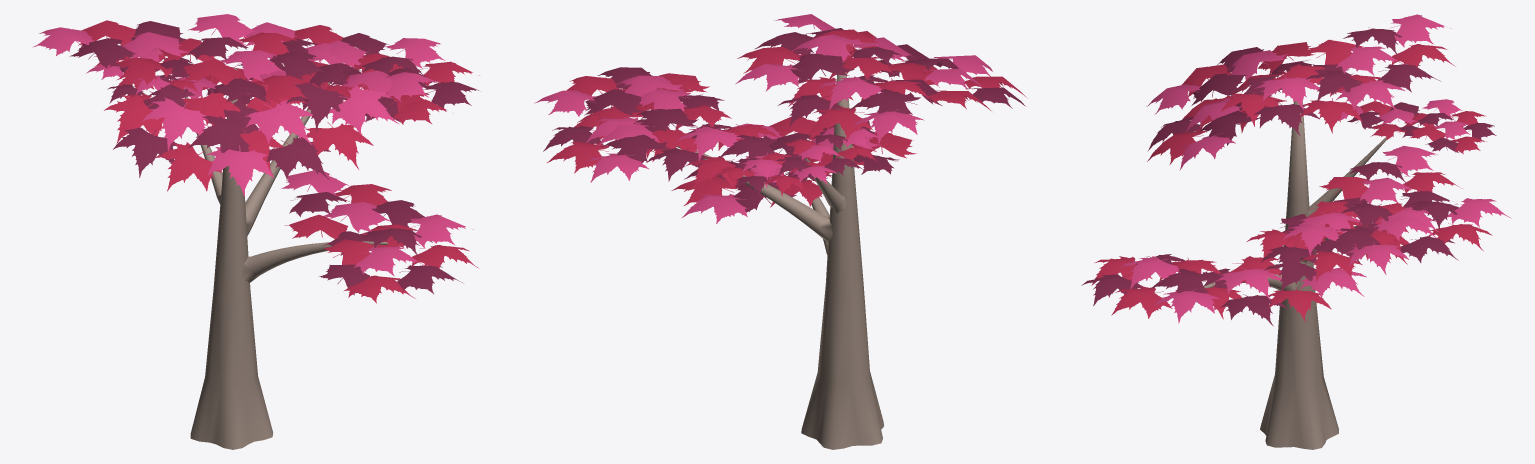
The model's file is pink_tree.fbx.
3 views of the same model, side by side, from view 1: azimuth 30°, elevation 25°; view 2: azimuth 150°, elevation 25°; view 3: azimuth 270°, elevation 25° (orthographic). The views are drawn at different scales.
Visible parts, largest first — view 1: pink_tree; view 2: pink_tree; view 3: pink_tree.
Boxes of the visible parts, bbox=[...] form: pink_tree: bbox=[32, 14, 479, 449]; pink_tree: bbox=[534, 14, 1026, 449]; pink_tree: bbox=[1081, 14, 1511, 449].
Size of the model in its own units: 18.33 by 15.57 by 17.58.
